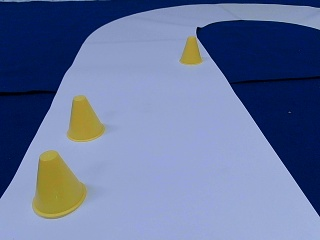cone: (33, 152, 87, 217), (66, 96, 105, 140), (179, 36, 201, 64)
